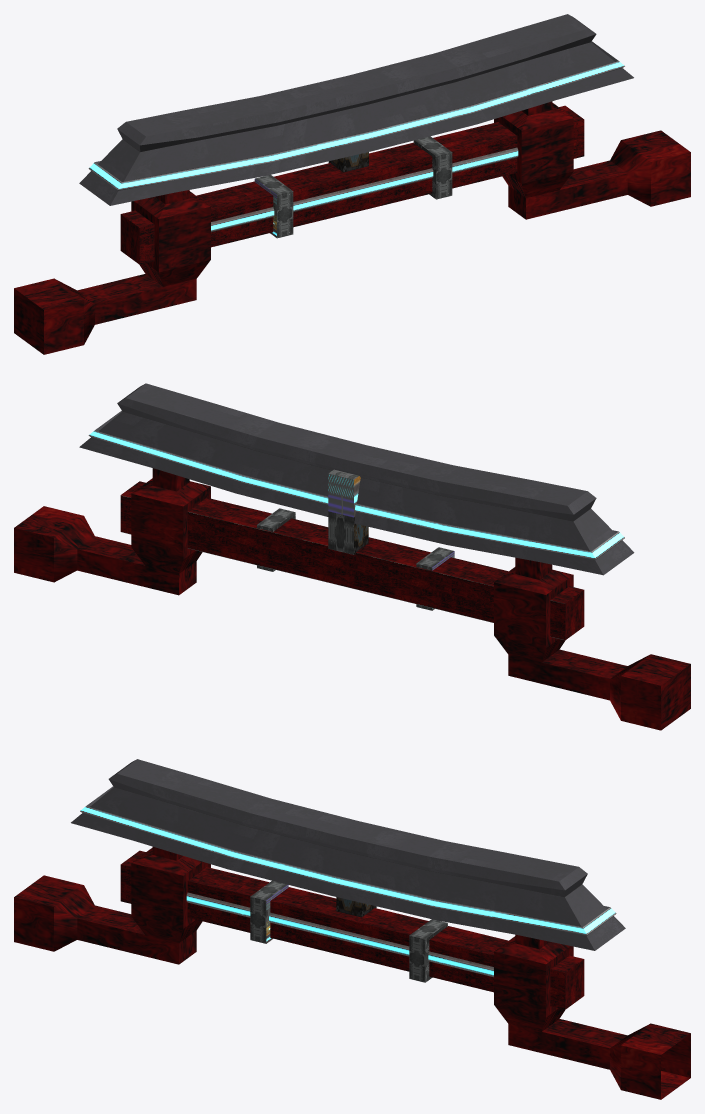
File: Japanese_Arch.glb
The picture shows the model from 3 angles, top to bottom: view 1: azimuth 30°, elevation 25°; view 2: azimuth 150°, elevation 25°; view 3: azimuth 330°, elevation 25°; orthographic projection.
Visible parts, largest first — view 1: Japanese_Arch; view 2: Japanese_Arch; view 3: Japanese_Arch.
Part boxes in pixels (box(x1,y1,x2,y2)): Japanese_Arch: box(14, 14, 690, 354); Japanese_Arch: box(14, 383, 690, 730); Japanese_Arch: box(14, 759, 690, 1099).
Bounding box in the file's own units: 8.18 × 2.33 × 0.7615.
3 materials, 3 textured.
